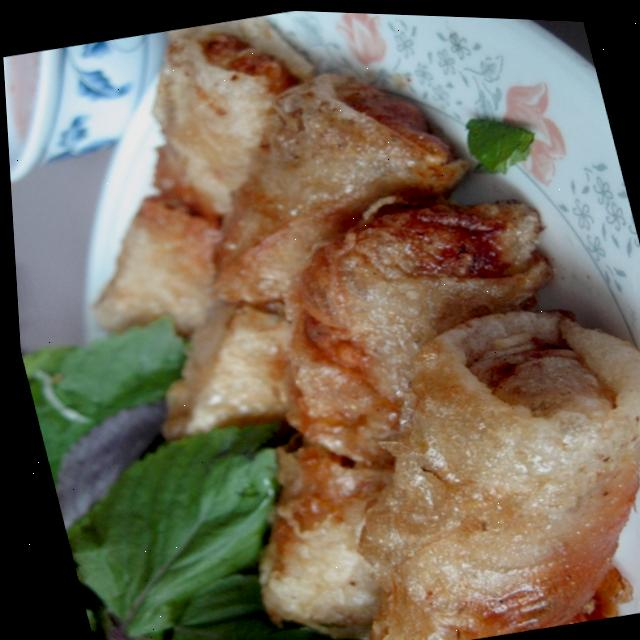炸货点心: (9, 0, 640, 640)
